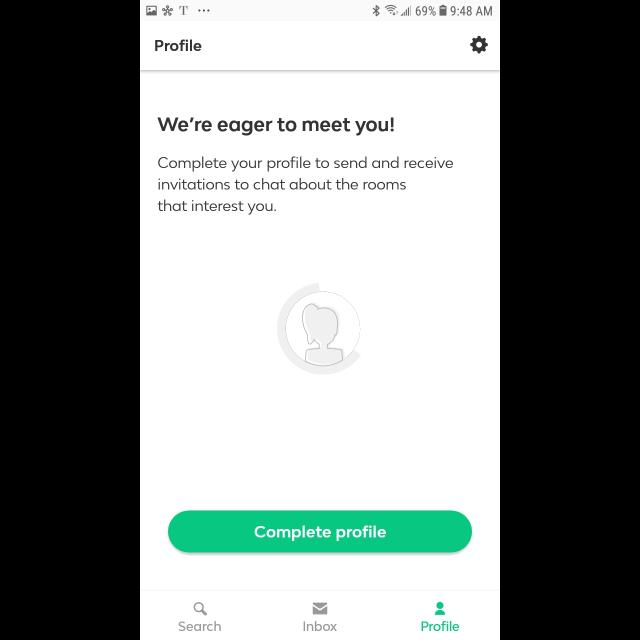icon: (470, 36, 488, 54), (193, 602, 207, 616), (312, 602, 328, 614), (434, 601, 446, 615)
image: (276, 282, 362, 376)
text: (158, 157, 454, 216), (158, 118, 394, 136), (156, 40, 202, 52), (178, 621, 222, 631), (303, 620, 337, 632), (421, 621, 459, 631)
textbutton: (168, 511, 472, 554)
uppertaskbar: (140, 1, 500, 22)
